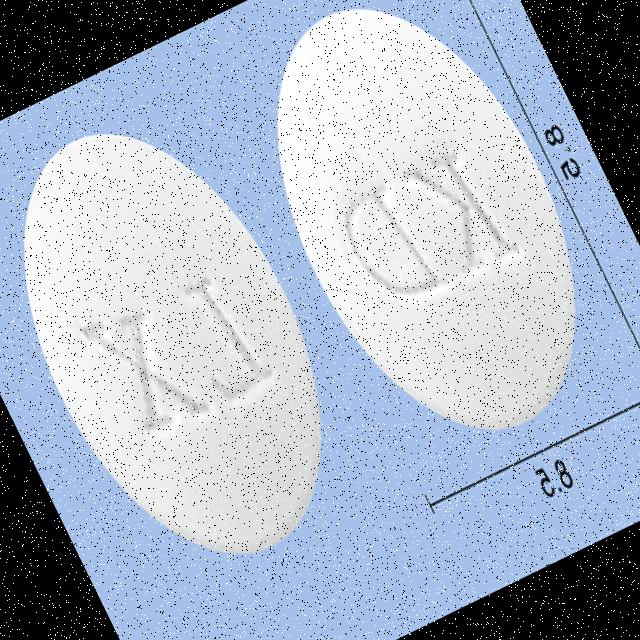Lefoxin: (214, 0, 636, 476), (0, 85, 382, 600)
